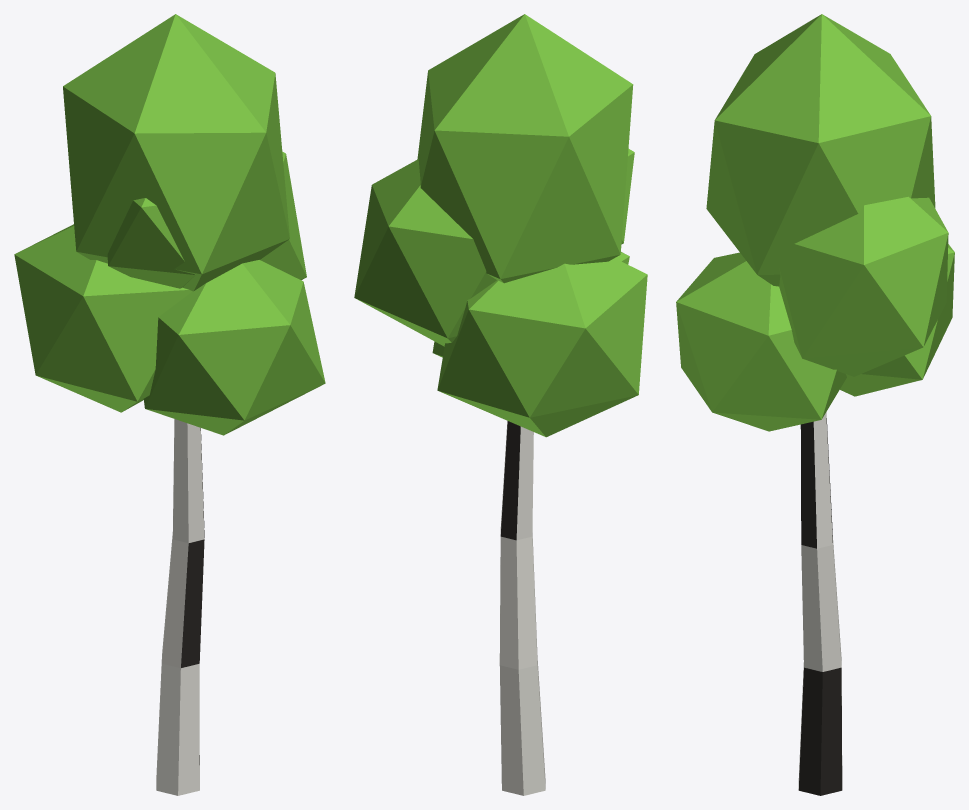
Rendered from tree_birch.glb.
The picture shows the model from 3 angles, left to right: view 1: azimuth 30°, elevation 25°; view 2: azimuth 150°, elevation 25°; view 3: azimuth 270°, elevation 25°; orthographic projection.
Visible parts, largest first — view 1: tree_birch; view 2: tree_birch; view 3: tree_birch.
Part boxes in pixels (x1,y1,x2,y2): tree_birch: (14,14,325,795); tree_birch: (354,14,647,795); tree_birch: (676,14,954,795).
Bounding box in the file's own units: 2.61 × 7.44 × 2.44.
